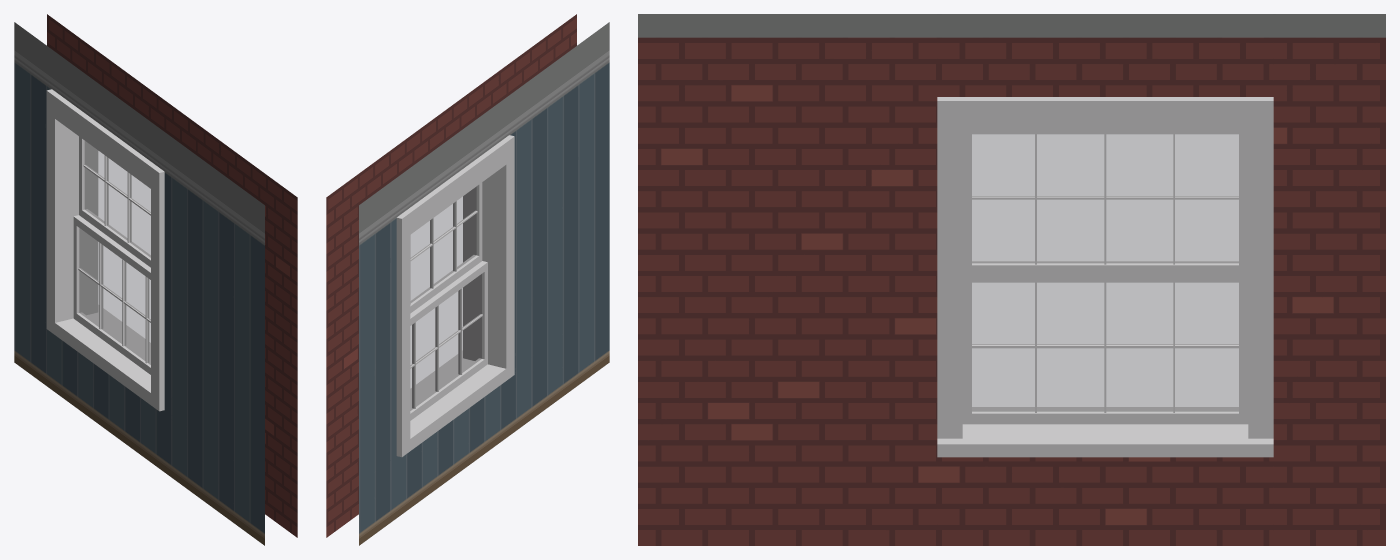
File: SM_window_03_offset.glb
3 views of the same model, side by side, from view 1: azimuth 30°, elevation 25°; view 2: azimuth 150°, elevation 25°; view 3: azimuth 270°, elevation 25° (orthographic). The views are drawn at different scales.
Visible parts, largest first — view 1: SM_window_03_offset; view 2: SM_window_03_offset; view 3: SM_window_03_offset.
Part boxes in pixels (bbox=[...]): SM_window_03_offset: bbox=[14, 14, 297, 545]; SM_window_03_offset: bbox=[326, 14, 609, 545]; SM_window_03_offset: bbox=[638, 14, 1385, 545].
Size of the model in its own units: 0.4744 by 3 by 4.
4 materials, 3 textured.
